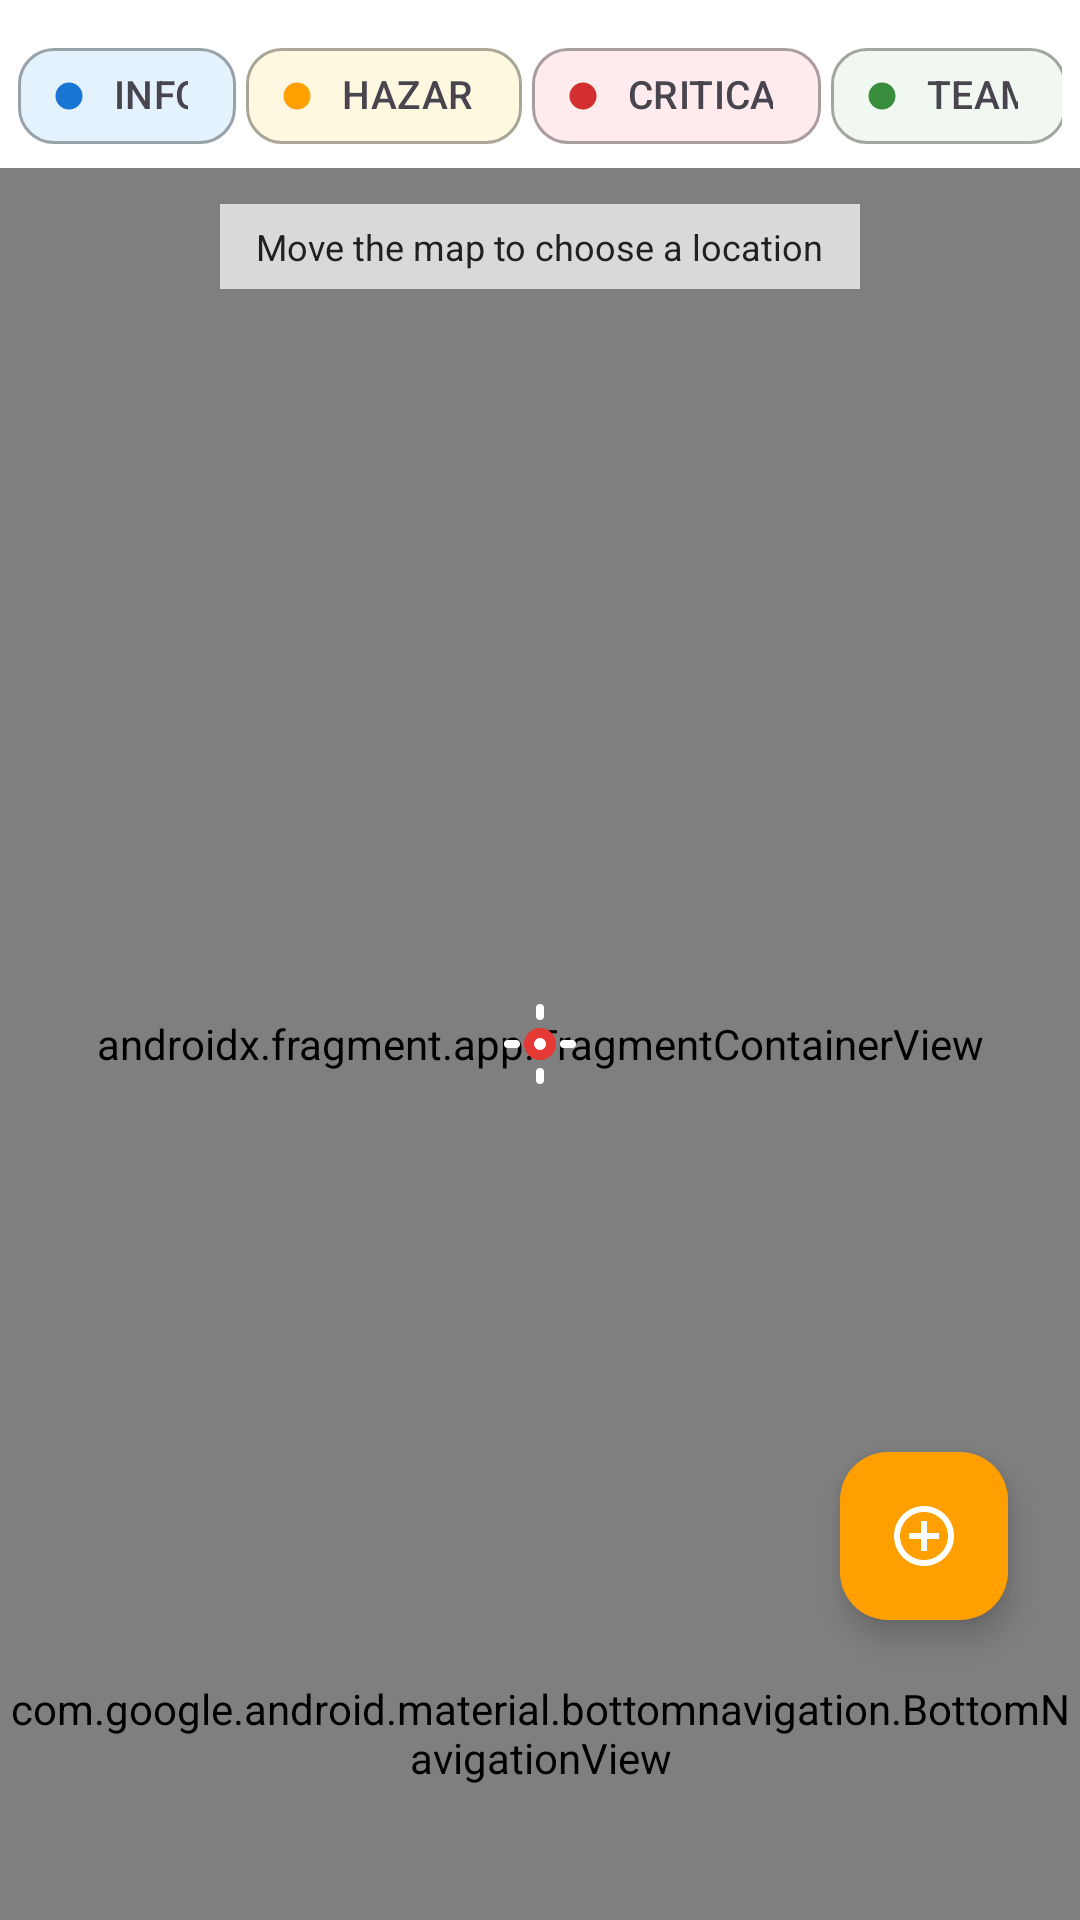

Icon click points for this 1080w x 1920h phone screenshot, format (x,y):
Add marker: (924,1536)
